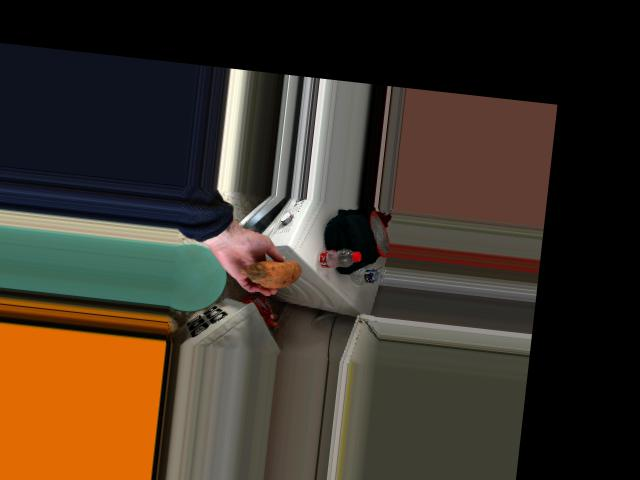sweet_potato: (237, 252, 306, 288)
